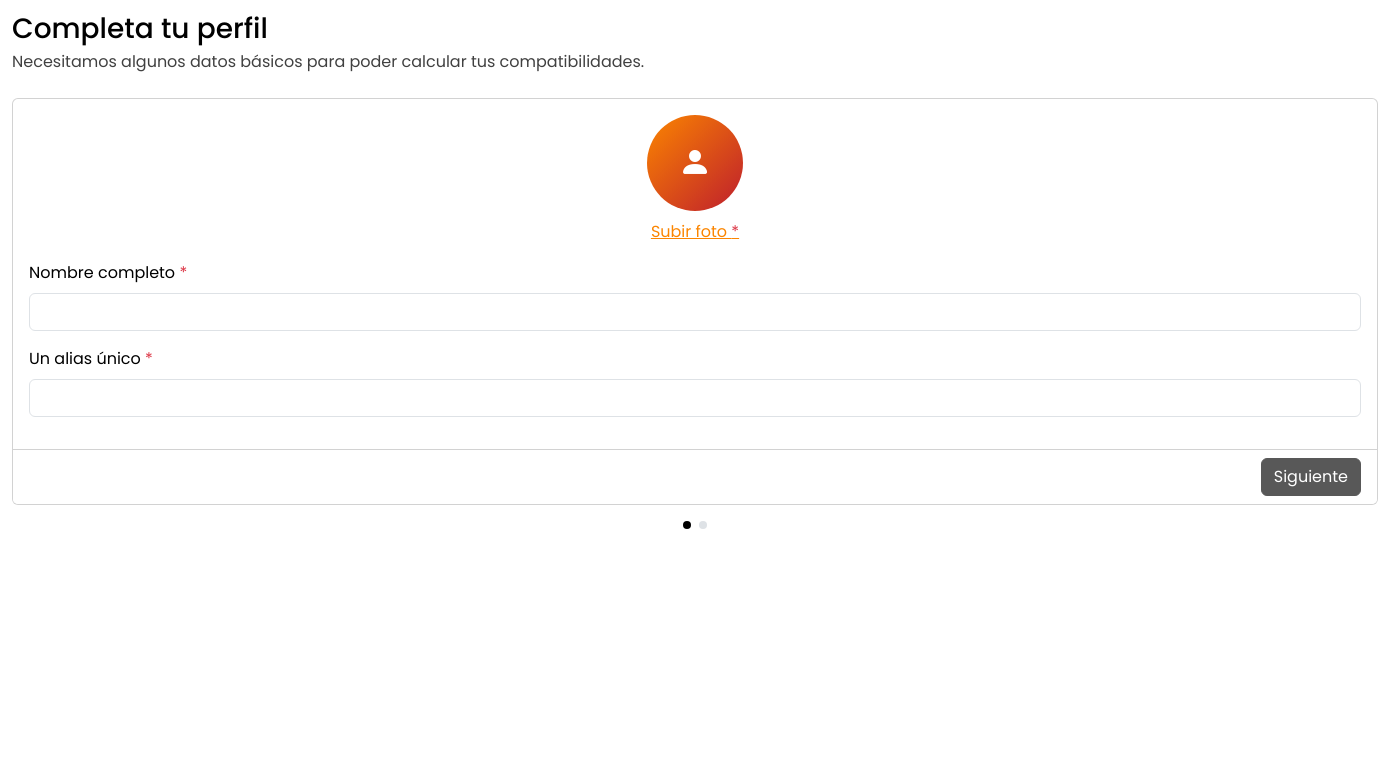
Scenario: RegistrationComponent — validación en vivo de alias (tarea 13.2) › consulta GET /users/check-alias y muestra que está disponible
Type "ada" into the field with id "alias".
click(695, 398); type("ada")  # box x1=29 y1=379 x2=1361 y2=417
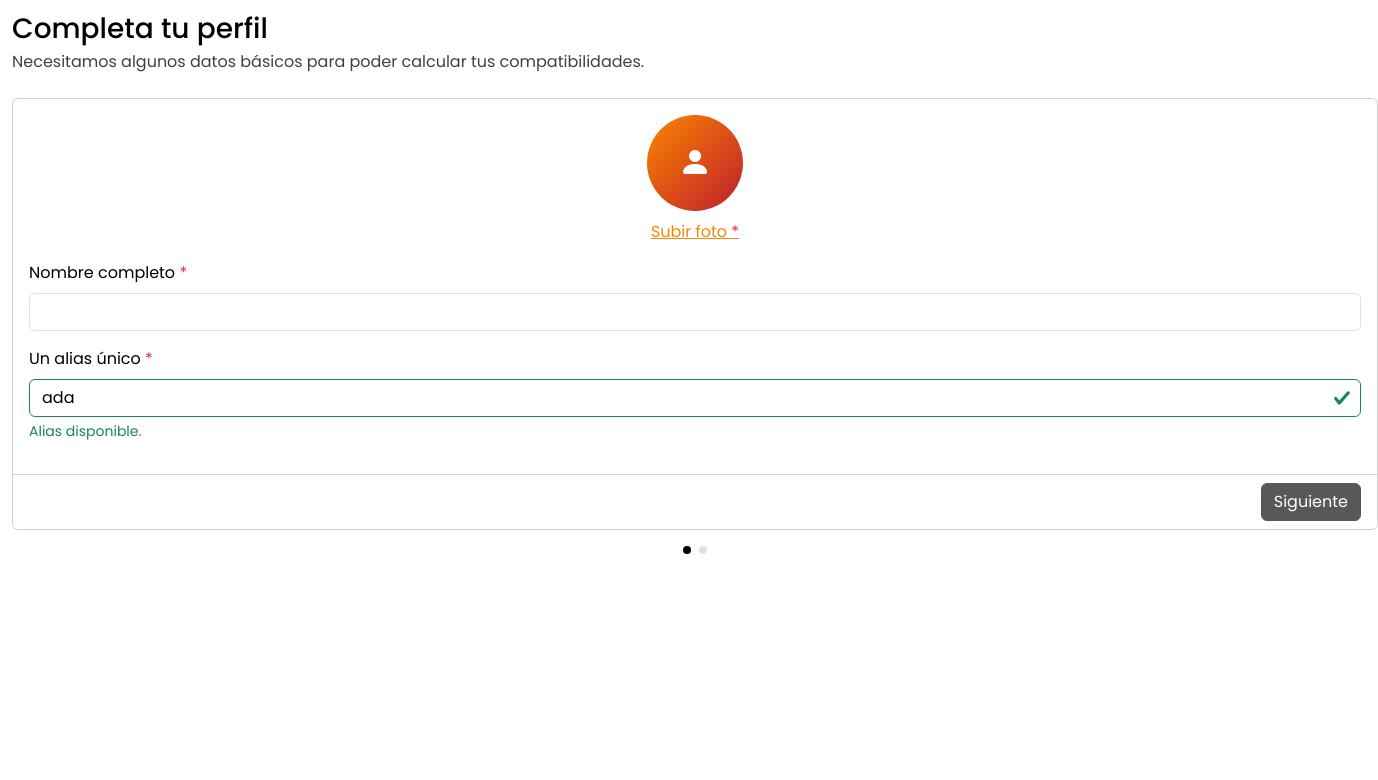
Expected: the text "Alias disponible." is shown, x1=29 y1=421 x2=141 y2=441
